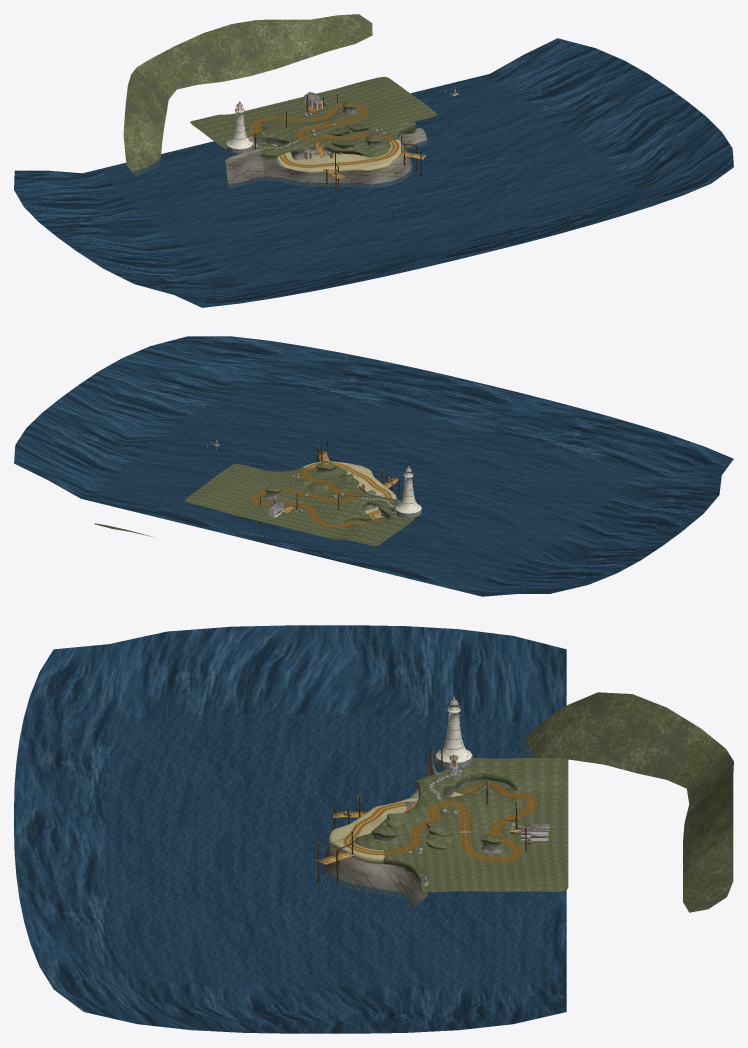
File: lighthouse_track.glb
The picture shows the model from 3 angles, top to bottom: view 1: azimuth 30°, elevation 25°; view 2: azimuth 150°, elevation 25°; view 3: azimuth 270°, elevation 25°; orthographic projection. The views are drawn at different scales.
Visible parts, largest first — view 1: sea-bed.jpg__, sea.png__, racetrack_grass.jpg__, rock_grey.jpg__, yellow_dirt.jpg__, trail_diff.png__, lighthouseWall_diff.png__, racetrack_blend.png__; view 2: sea-bed.jpg__, sea.png__, racetrack_grass.jpg__, trail_diff.png__, yellow_dirt.jpg__, lighthouseWall_diff.png__; view 3: sea-bed.jpg__, sea.png__, racetrack_grass.jpg__, rock_grey.jpg__, trail_diff.png__, yellow_dirt.jpg__, lighthouseWall_diff.png__, racetrack_blend.png__, roadRoundBrick.jpg__.
Part boxes in pixels (x1,y1,x2,y2): sea-bed.jpg__: (14,38,733,307); sea.png__: (103,76,636,287); racetrack_grass.jpg__: (123,14,436,176); rock_grey.jpg__: (225,108,427,188); yellow_dirt.jpg__: (264,139,403,173); trail_diff.png__: (247,103,399,167); lighthouseWall_diff.png__: (226,98,322,159); racetrack_blend.png__: (245,103,381,157); sea-bed.jpg__: (14,336,733,596); sea.png__: (94,382,637,586); racetrack_grass.jpg__: (94,461,414,546); trail_diff.png__: (250,462,391,527); yellow_dirt.jpg__: (302,461,396,519); lighthouseWall_diff.png__: (267,473,421,517); sea-bed.jpg__: (14,625,566,1033); sea.png__: (105,713,555,987); racetrack_grass.jpg__: (354,692,733,912); rock_grey.jpg__: (321,747,513,911); trail_diff.png__: (343,783,536,862); yellow_dirt.jpg__: (329,792,462,863); lighthouseWall_diff.png__: (407,706,548,840); racetrack_blend.png__: (371,771,514,849); roadRoundBrick.jpg__: (405,755,549,838).
Size of the model in its own units: 1034 by 153 by 770.
Materials: 27 (26 with a texture image).
